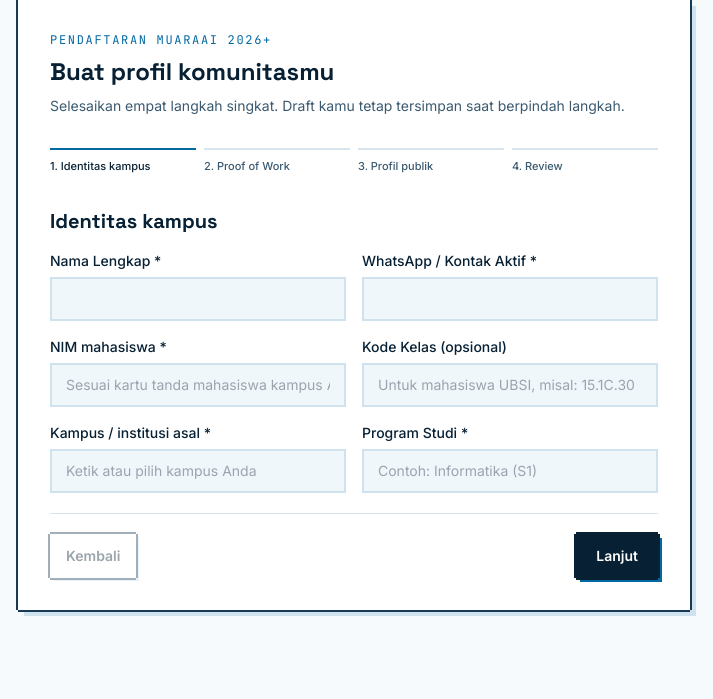
it: guided national onboarding › moves forward and back without losing the draft
Type "Yuken Velino" into the field labelled "Nama Lengkap *" at (198, 298), box x1=50 y1=276 x2=346 y2=320
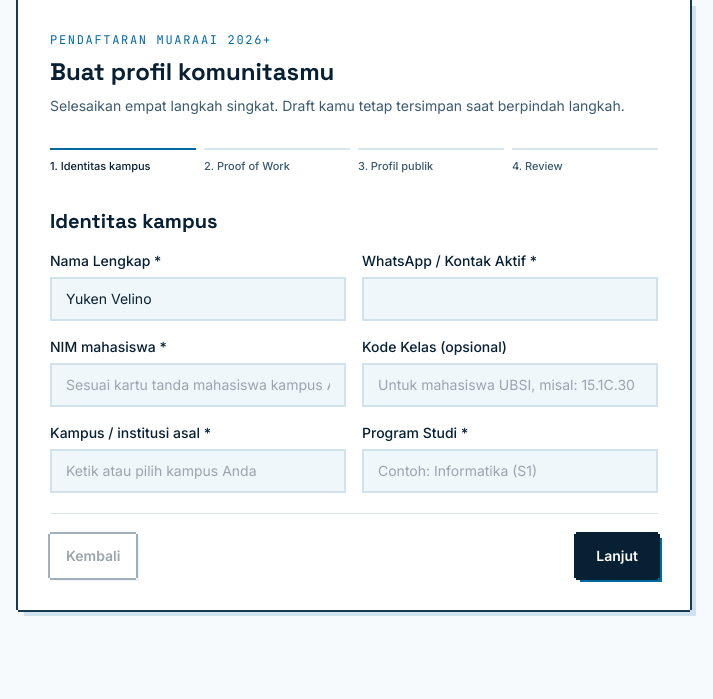
Click the button "Lanjut" at (617, 556), box x1=576 y1=534 x2=658 y2=578
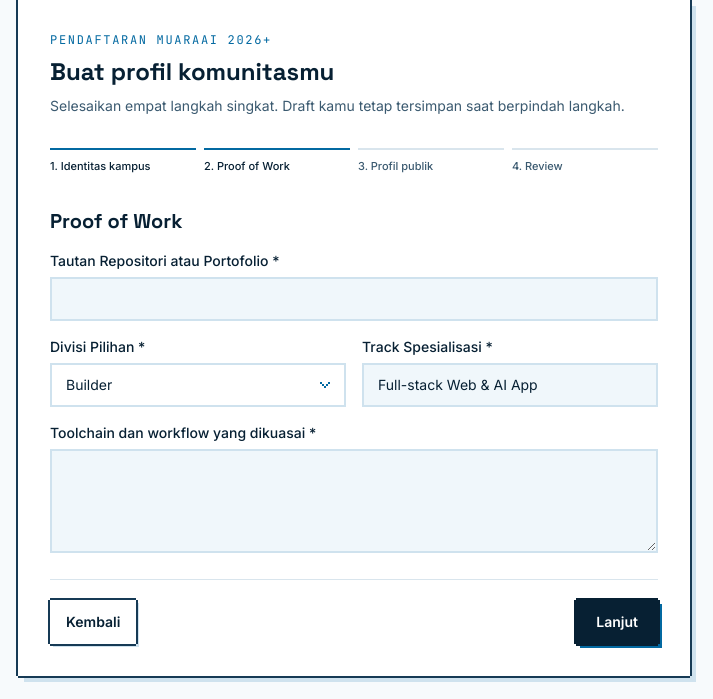
expect the text "2. Proof of Work" is shown: met, box x1=204 y1=159 x2=290 y2=173
Click the button "Kembali" at (93, 622), box x1=50 y1=600 x2=136 y2=644
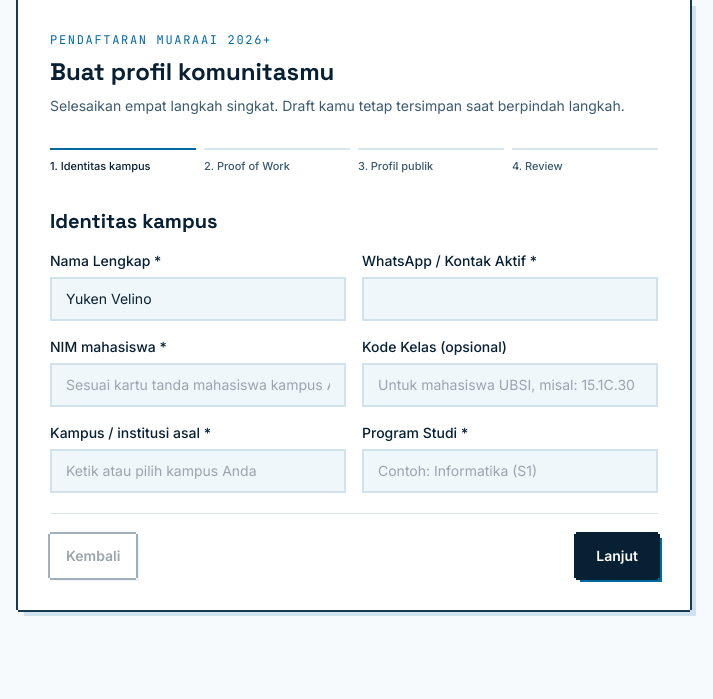
expect the field labelled "Nama Lengkap *" holds "Yuken Velino": met, box x1=50 y1=276 x2=346 y2=320
